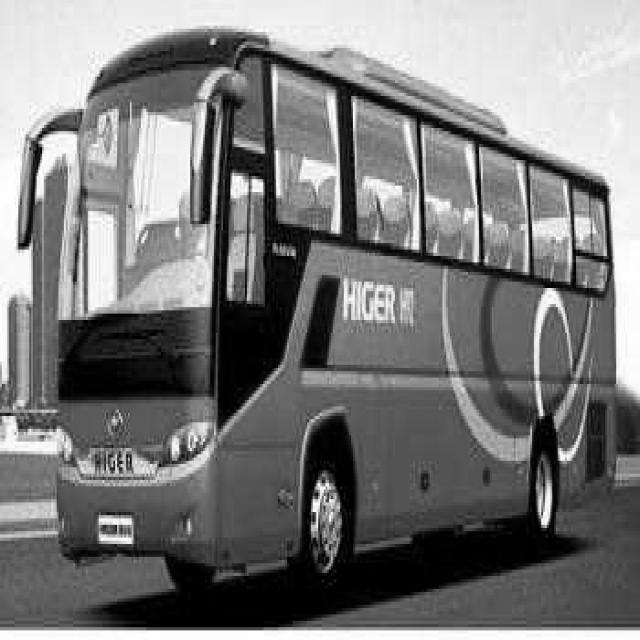Bus: (21, 29, 615, 588)
